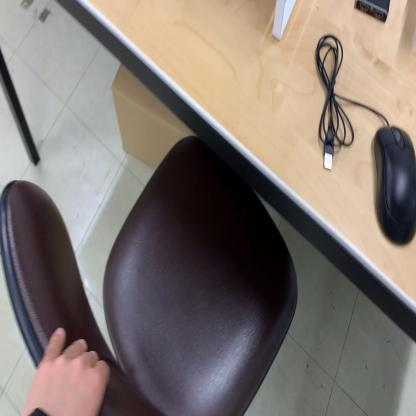chair: (7, 132, 299, 416)
